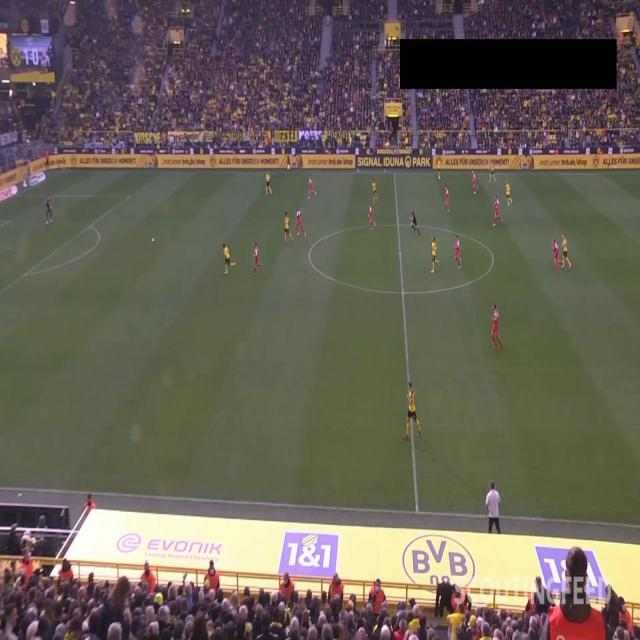ball: (152, 237, 156, 243)
